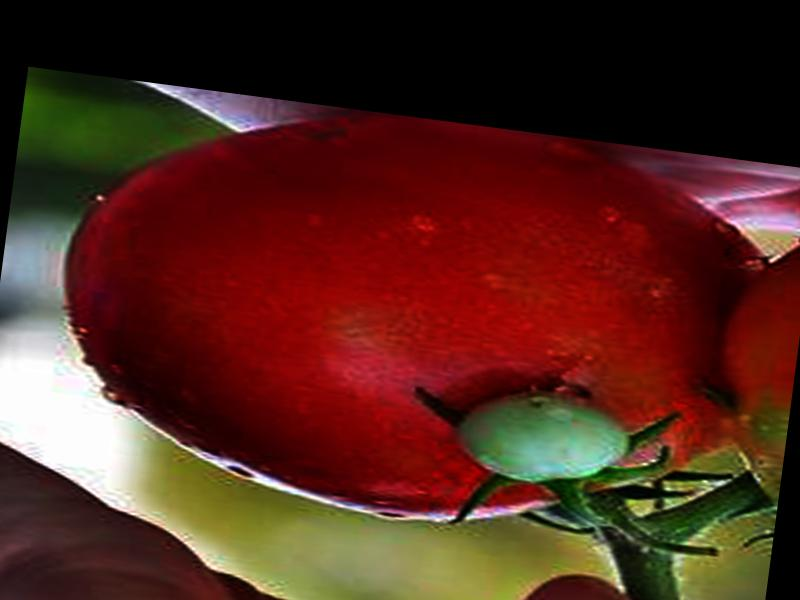Tomato: (41, 74, 773, 561)
